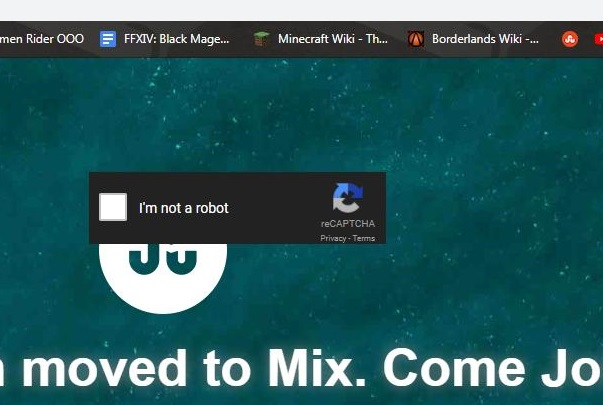captcha: (99, 192, 231, 222)
